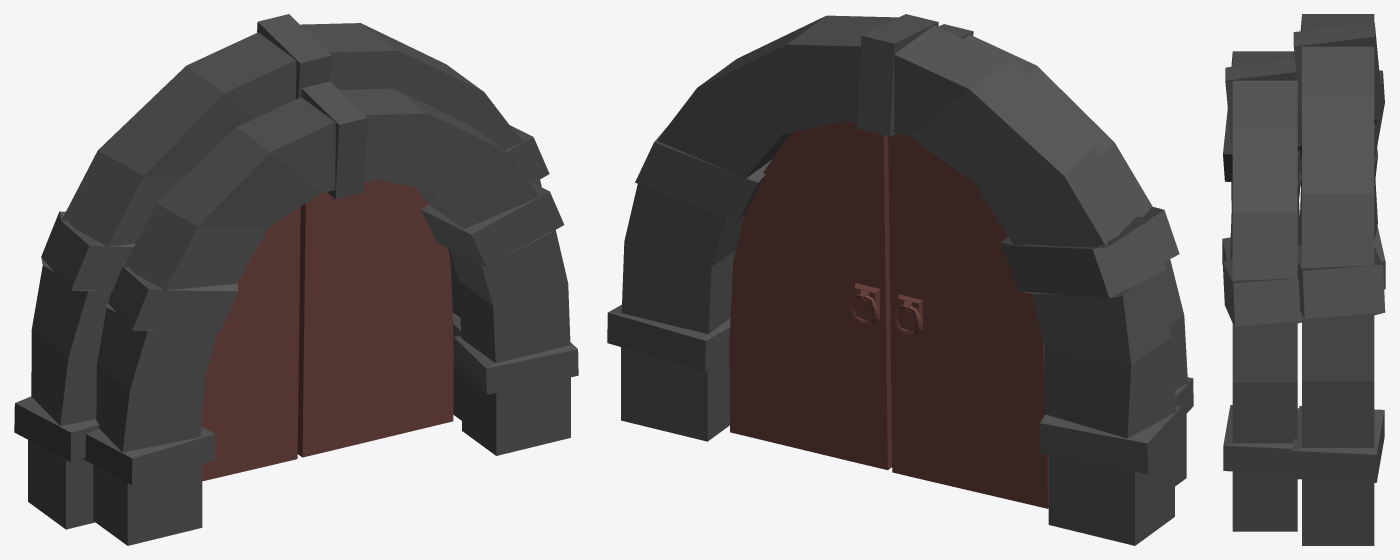
File: bigdoor.glb
3 views of the same model, side by side, from view 1: azimuth 30°, elevation 25°; view 2: azimuth 150°, elevation 25°; view 3: azimuth 270°, elevation 25° (orthographic). The views are drawn at different scales.
Visible parts, largest first — view 1: polySurface11, polySurface9, polySurface18; view 2: polySurface11, polySurface9, polySurface18; view 3: polySurface11.
Boxes of the visible parts, box(x1,y1,x2,y2) form: polySurface11: box(14, 14, 578, 545); polySurface9: box(297, 179, 453, 457); polySurface18: box(201, 207, 300, 481); polySurface11: box(607, 14, 1193, 545); polySurface9: box(729, 121, 891, 469); polySurface18: box(888, 133, 1048, 508); polySurface11: box(1222, 14, 1385, 545).
Size of the model in its own units: 5.36 by 4.21 by 1.55.
